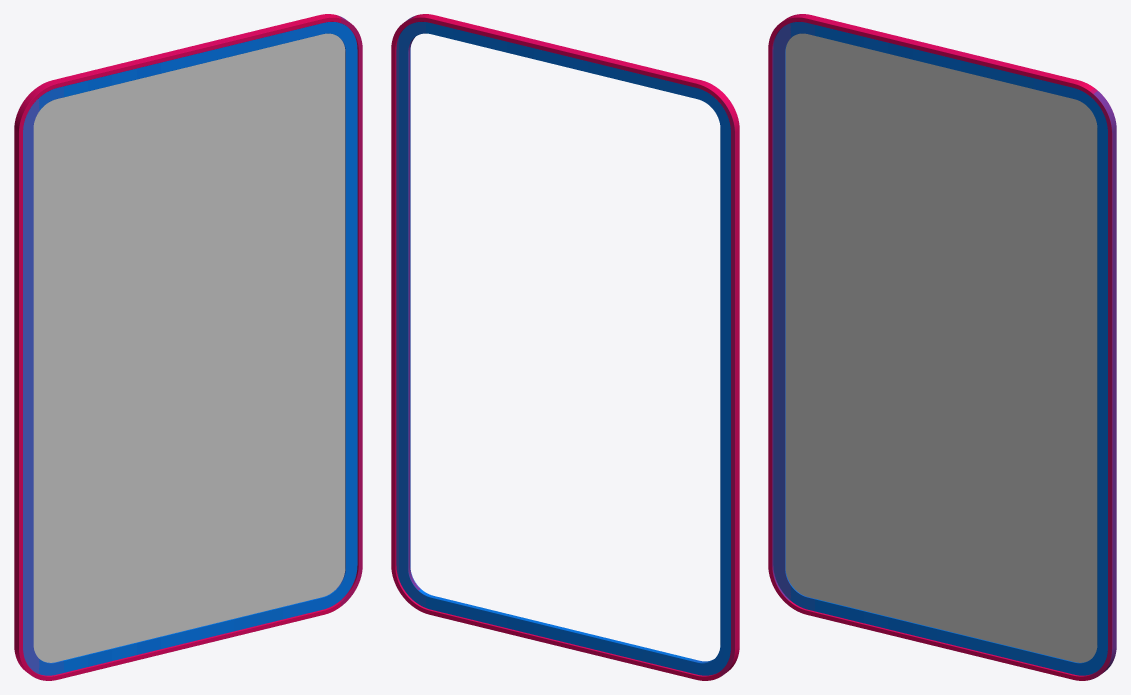
File: card2.glb
3 views of the same model, side by side, from view 1: azimuth 30°, elevation 25°; view 2: azimuth 150°, elevation 25°; view 3: azimuth 330°, elevation 25° (orthographic).
Parts seen in each view (by area): view 1: Front, Rim; view 2: Rim; view 3: Front, Rim.
Boxes of the visible parts, box(x1,y1,x2,y2) form: Front: box(33, 33, 345, 662); Rim: box(14, 14, 362, 680); Rim: box(391, 14, 739, 680); Front: box(785, 33, 1097, 662); Rim: box(768, 14, 1116, 680).
Size of the model in its own units: 0.9131 by 1.51 by 0.0218.
Materials: 2 (1 with a texture image).
